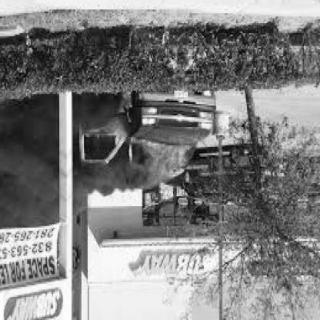Fire: (116, 92, 136, 120)
Smoke: (2, 107, 138, 207)
